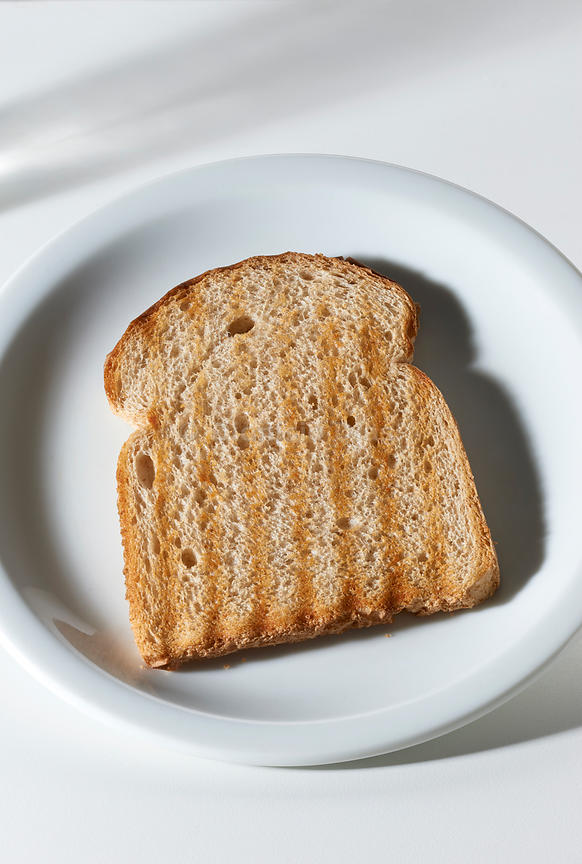slice of bread: (113, 317, 488, 618)
